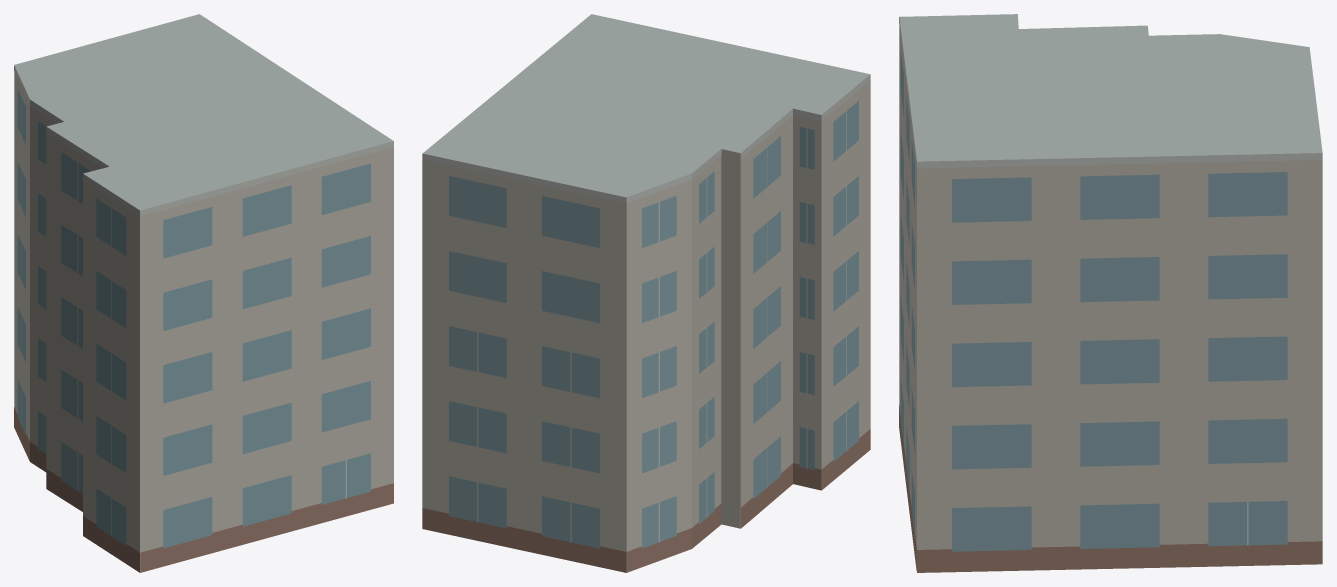
File: survey-upis-32880495.glb
3 renders of one model, left to right at view 1: azimuth 30°, elevation 25°; view 2: azimuth 150°, elevation 25°; view 3: azimuth 270°, elevation 25°, orthographic. The views are drawn at different scales.
Parts seen in each view (by area): view 1: survey-upis-32880495.tmp; view 2: survey-upis-32880495.tmp; view 3: survey-upis-32880495.tmp.
Part boxes in pixels (x1=…): survey-upis-32880495.tmp: x1=14, y1=14, x2=393, y2=572; survey-upis-32880495.tmp: x1=422, y1=14, x2=870, y2=572; survey-upis-32880495.tmp: x1=899, y1=14, x2=1322, y2=572.
Bounding box in the file's own units: 11.32 × 14.7 × 13.73.
